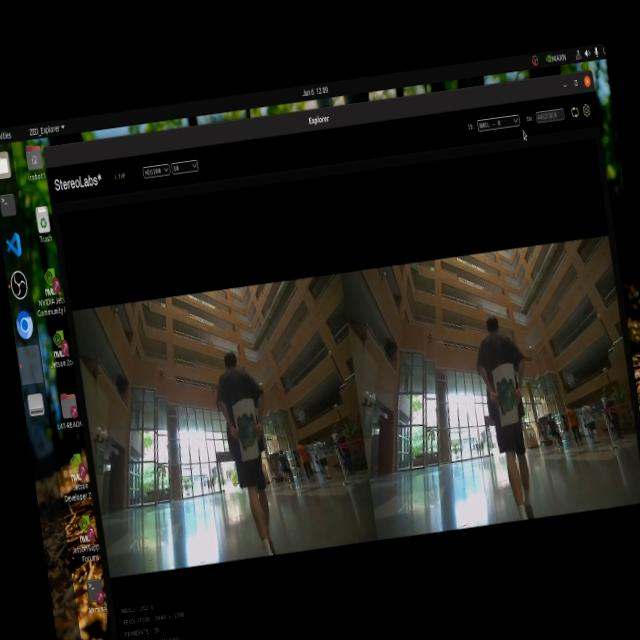green: (236, 407, 264, 452), (498, 372, 522, 423)
